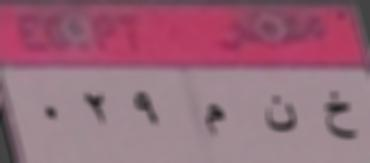0: (41, 98, 62, 129)
2: (80, 87, 112, 128)
9: (126, 84, 167, 133)
khaa: (322, 87, 361, 146)
meem: (202, 95, 227, 142)
noon: (259, 90, 302, 137)
